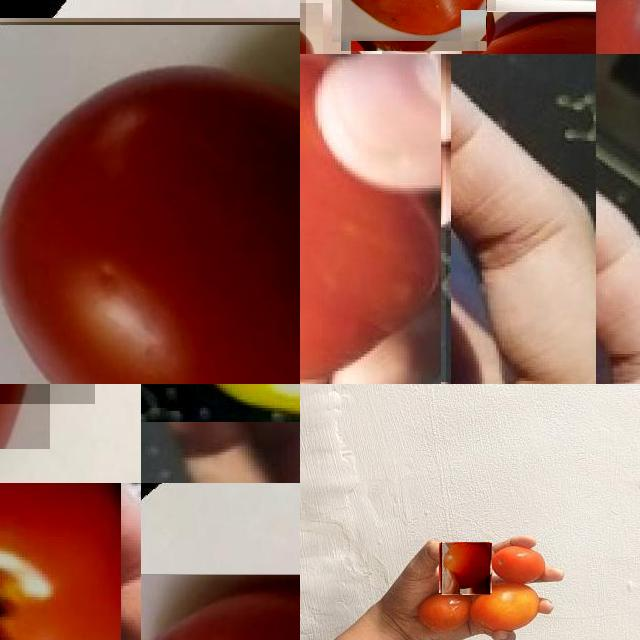0: (0, 483, 120, 640)
Fresh Tomato: (0, 22, 300, 384), (300, 54, 446, 384), (341, 0, 486, 51), (461, 11, 596, 54), (474, 583, 540, 634), (440, 543, 491, 594), (418, 590, 471, 636), (492, 543, 546, 584)
